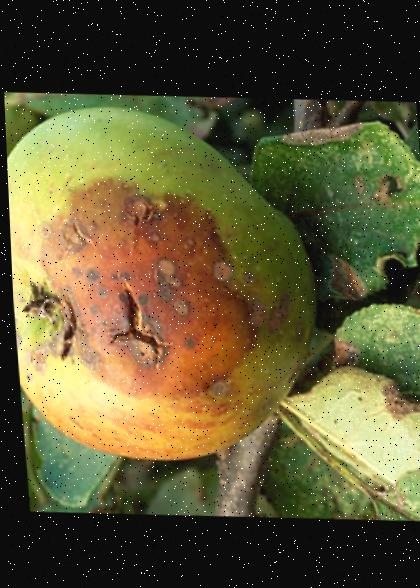ROT: (4, 84, 338, 480)
